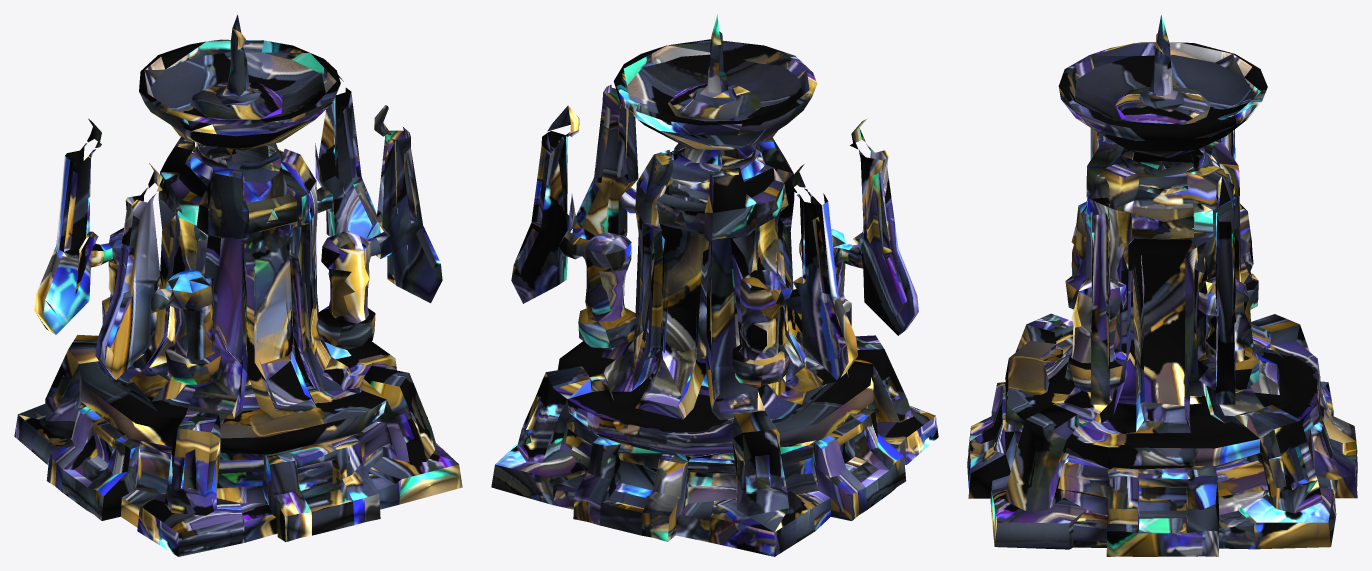
File: tower_relay_3d_LOD2.fbx
3 renders of one model, left to right at view 1: azimuth 30°, elevation 25°; view 2: azimuth 150°, elevation 25°; view 3: azimuth 270°, elevation 25°, orthographic. The views are drawn at different scales.
Visible parts, largest first — view 1: Base, Dish; view 2: Base, Dish; view 3: Base, Dish.
Part boxes in pixels (bbox=[...]): Base: bbox=[14, 88, 462, 556]; Dish: bbox=[87, 14, 391, 191]; Base: bbox=[491, 85, 938, 556]; Dish: bbox=[547, 14, 866, 192]; Base: bbox=[967, 128, 1357, 556]; Dish: bbox=[1058, 15, 1267, 209].
Size of the model in its own units: 98.59 by 125 by 95.94.
